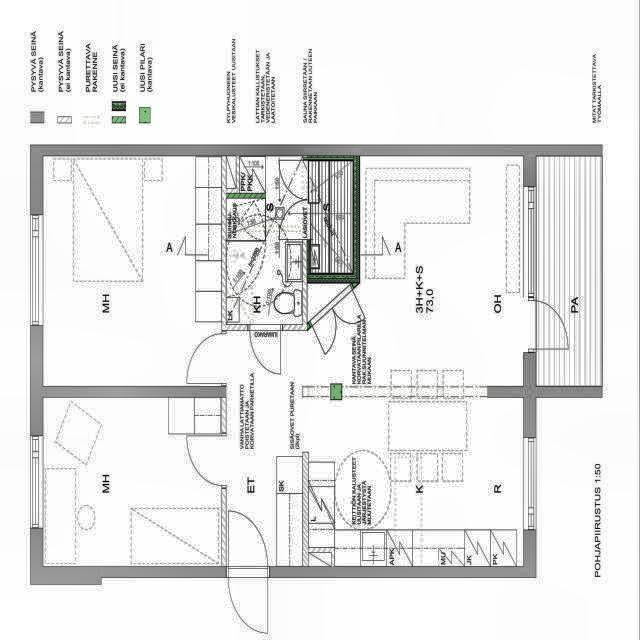room: (43, 156, 222, 386), (43, 398, 222, 566), (536, 156, 602, 386), (226, 156, 308, 324), (309, 161, 353, 273)
